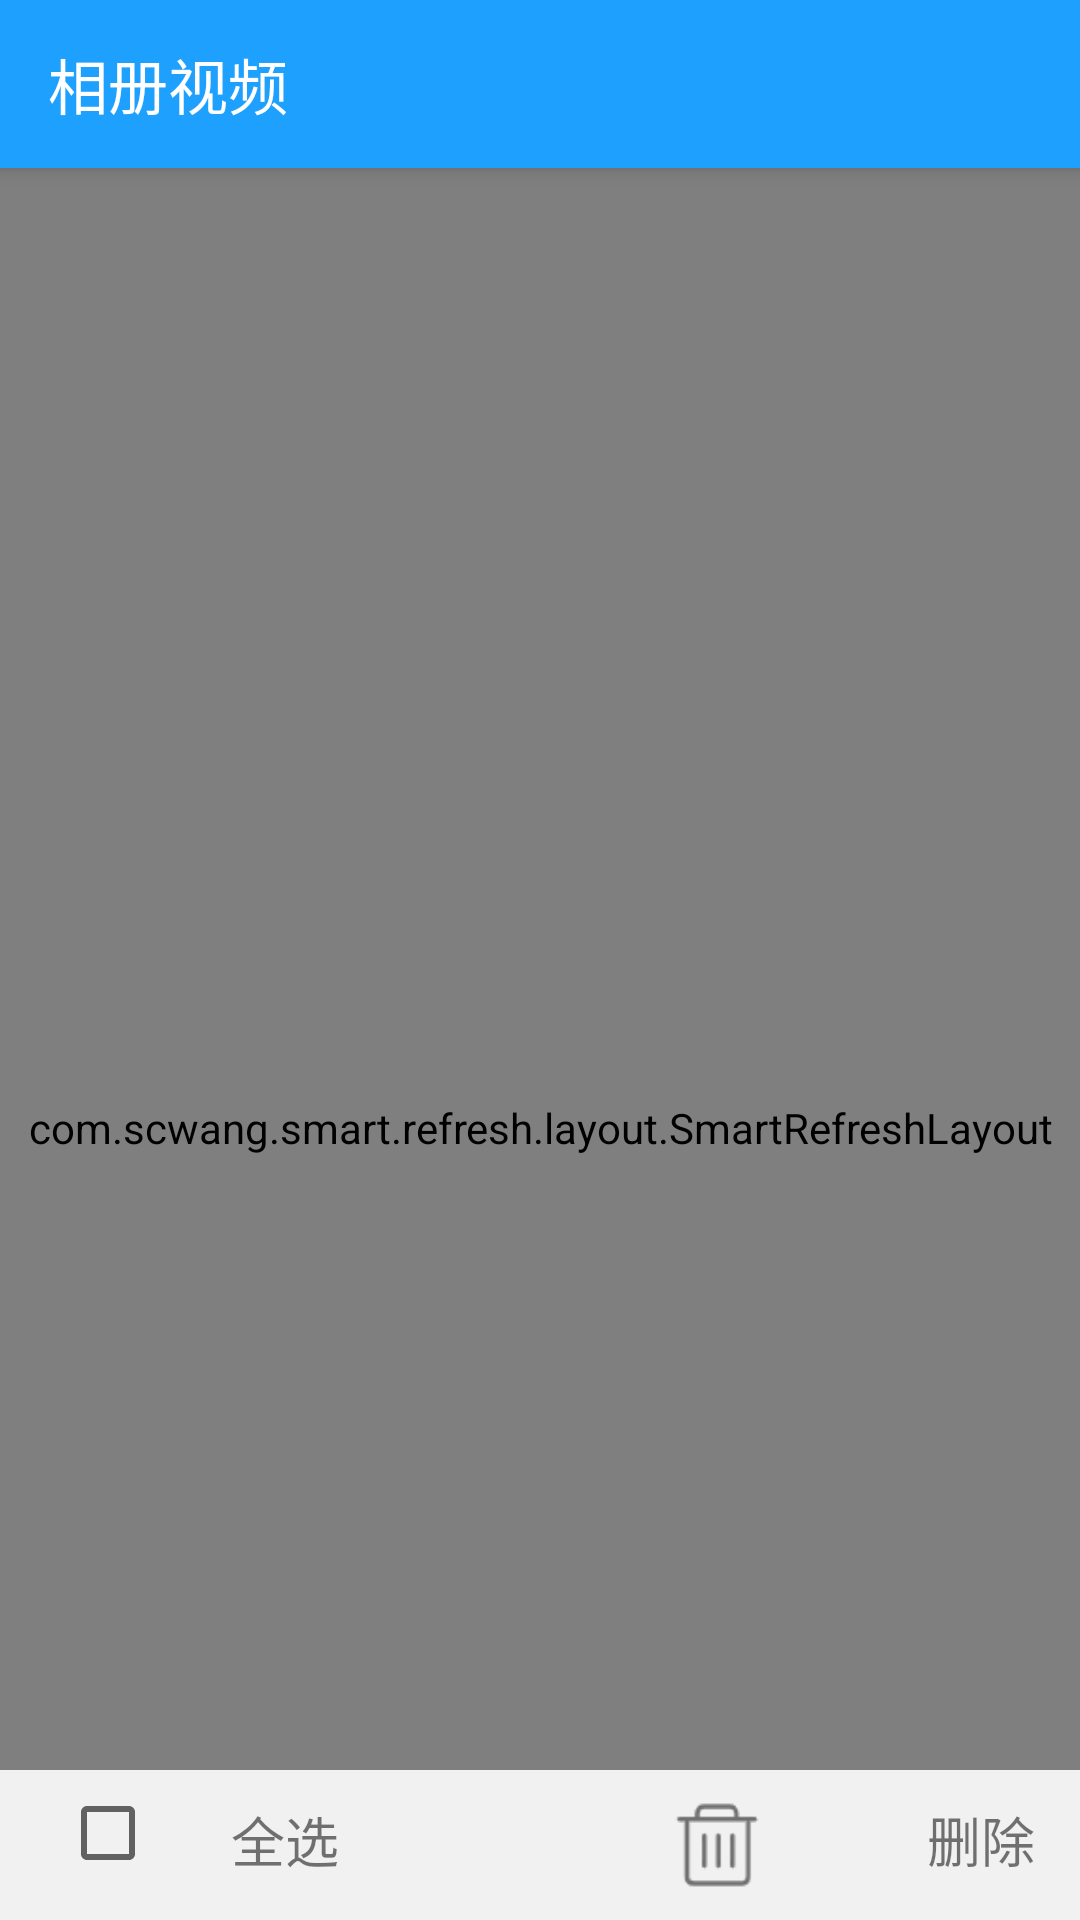

Where icons sit on this 1080w x 1920h app screen, as (x1, y1, x2, y2):
dustin: (677, 1803, 758, 1887)
